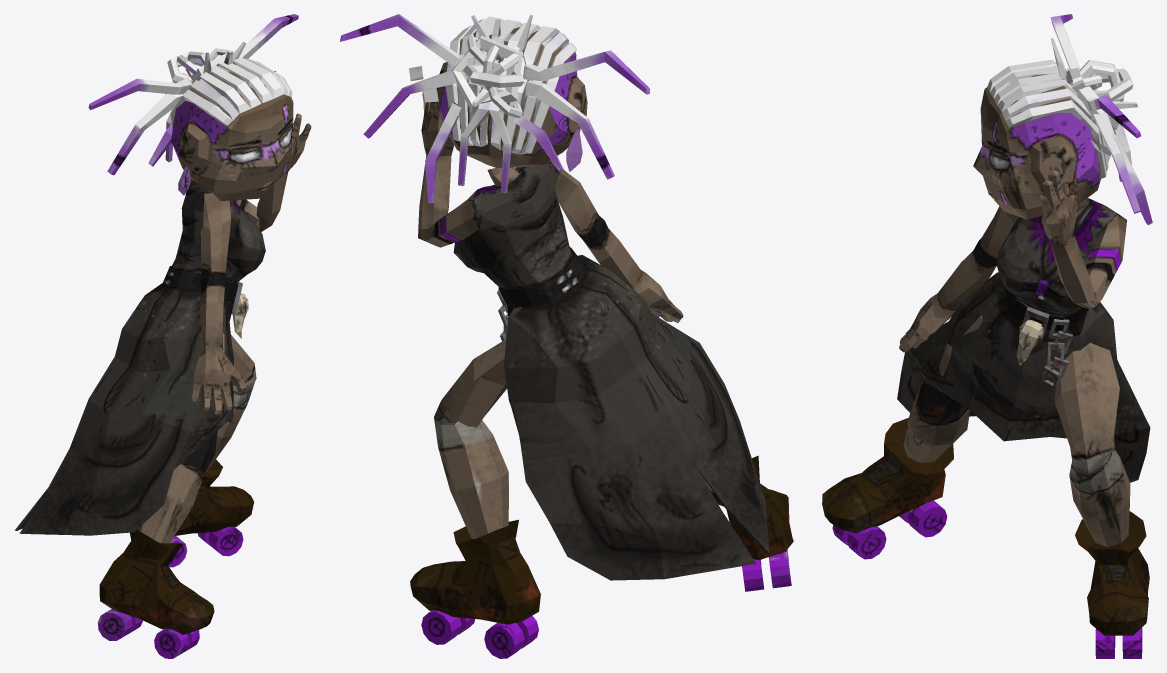
The model's file is bruja_000036.obj.
The picture shows the model from 3 angles, left to right: view 1: azimuth 30°, elevation 25°; view 2: azimuth 150°, elevation 25°; view 3: azimuth 270°, elevation 25°; orthographic projection. The views are drawn at different scales.
Parts seen in each view (by area): view 1: Bruja_Plane.001; view 2: Bruja_Plane.001; view 3: Bruja_Plane.001.
Part boxes in pixels (box(x1,y1,x2,y2)): Bruja_Plane.001: box(14, 14, 311, 658); Bruja_Plane.001: box(340, 14, 793, 658); Bruja_Plane.001: box(822, 14, 1152, 658).
Bounding box in the file's own units: 9.96 × 15.44 × 7.77.
